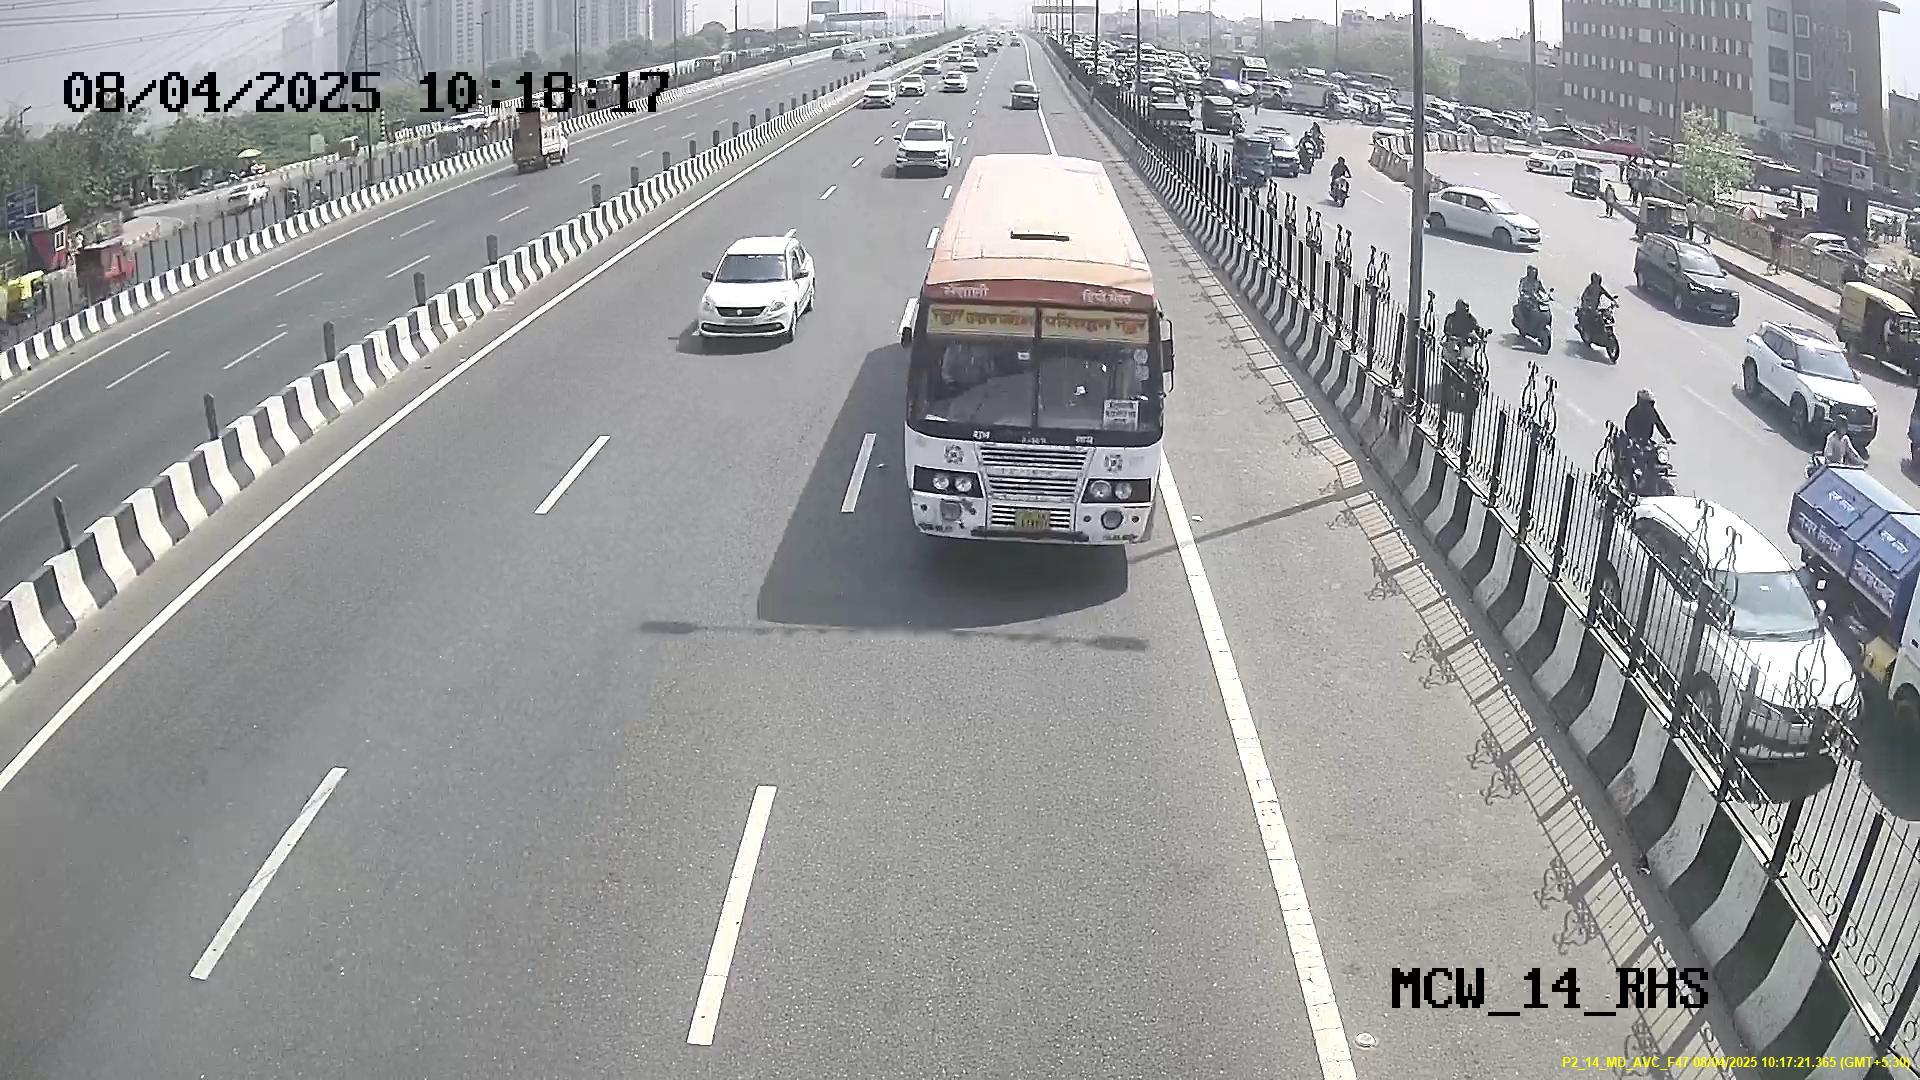bus: (898, 212, 1171, 564)
car: (692, 239, 803, 347)
